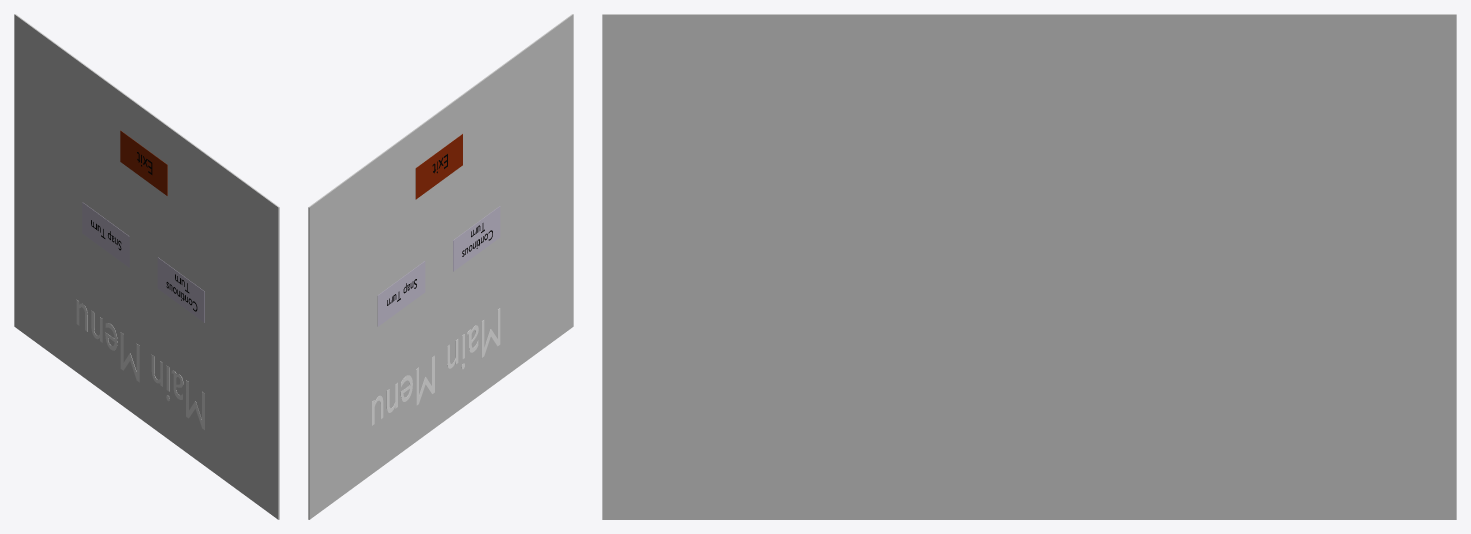
The model's file is UserUI.fbx.
3 renders of one model, left to right at view 1: azimuth 30°, elevation 25°; view 2: azimuth 150°, elevation 25°; view 3: azimuth 270°, elevation 25°, orthographic. The views are drawn at different scales.
Parts seen in each view (by area): view 1: Cube, Text, Cube.003, Cube.004, Cube.002; view 2: Cube, Text, Cube.003, Cube.002, Cube.004; view 3: Cube.
Boxes of the visible parts, left/top/right/bottom form: Cube: left=14, top=14, right=279, bottom=519; Text: left=76, top=300, right=204, bottom=429; Cube.003: left=82, top=202, right=129, bottom=267; Cube.004: left=120, top=130, right=167, bottom=195; Cube.002: left=157, top=257, right=204, bottom=322; Cube: left=308, top=14, right=573, bottom=519; Text: left=372, top=308, right=500, bottom=425; Cube.003: left=377, top=261, right=425, bottom=326; Cube.002: left=453, top=206, right=500, bottom=271; Cube.004: left=415, top=134, right=462, bottom=199; Cube: left=602, top=14, right=1456, bottom=519.
Size of the model in its own units: 0.2339 by 47.9 by 73.41.
